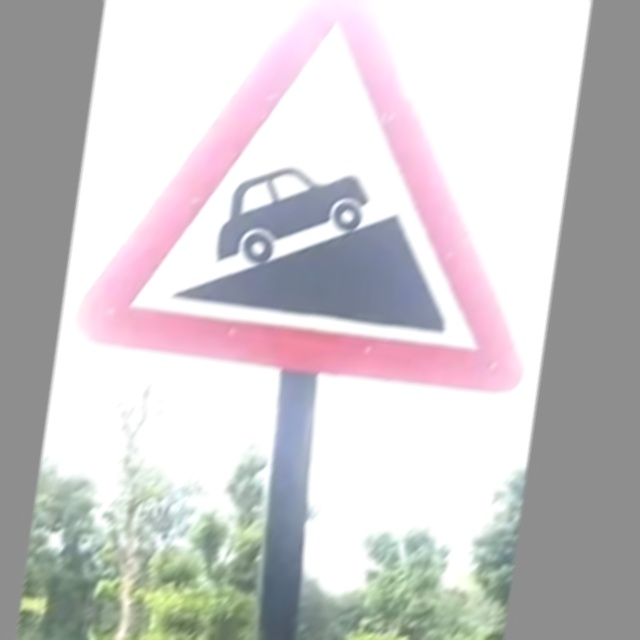Steep_Ascent: (114, 21, 522, 381)
